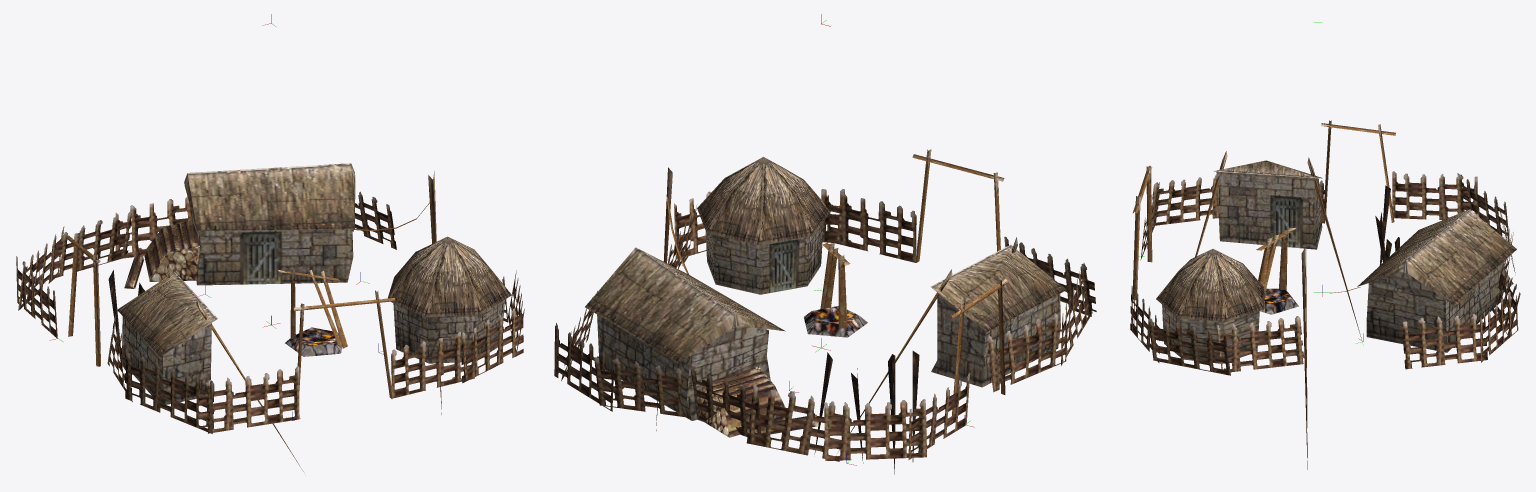
File: settlement.glb
3 renders of one model, left to right at view 1: azimuth 30°, elevation 25°; view 2: azimuth 150°, elevation 25°; view 3: azimuth 270°, elevation 25°, orthographic. The views are drawn at different scales.
Visible parts, largest first — view 1: building settlementModel; view 2: building settlementModel; view 3: building settlementModel.
Part boxes in pixels (x1=…): building settlementModel: x1=16, y1=163, x2=524, y2=471; building settlementModel: x1=554, y1=149, x2=1096, y2=474; building settlementModel: x1=1130, y1=120, x2=1520, y2=469.
Size of the model in its own units: 10.47 by 11.62 by 10.5.
Materials: 3 (2 with a texture image).
